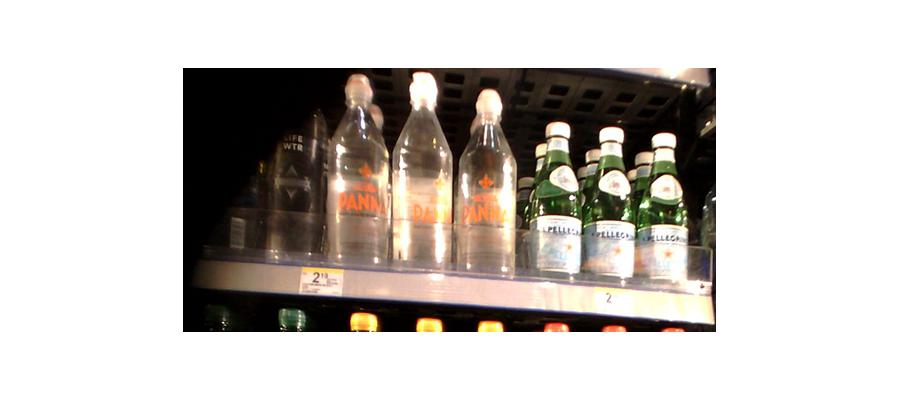bottle: (390, 82, 452, 271), (327, 79, 388, 270), (457, 95, 518, 277), (266, 106, 325, 263), (527, 119, 582, 277), (636, 127, 688, 289), (585, 124, 634, 281)
